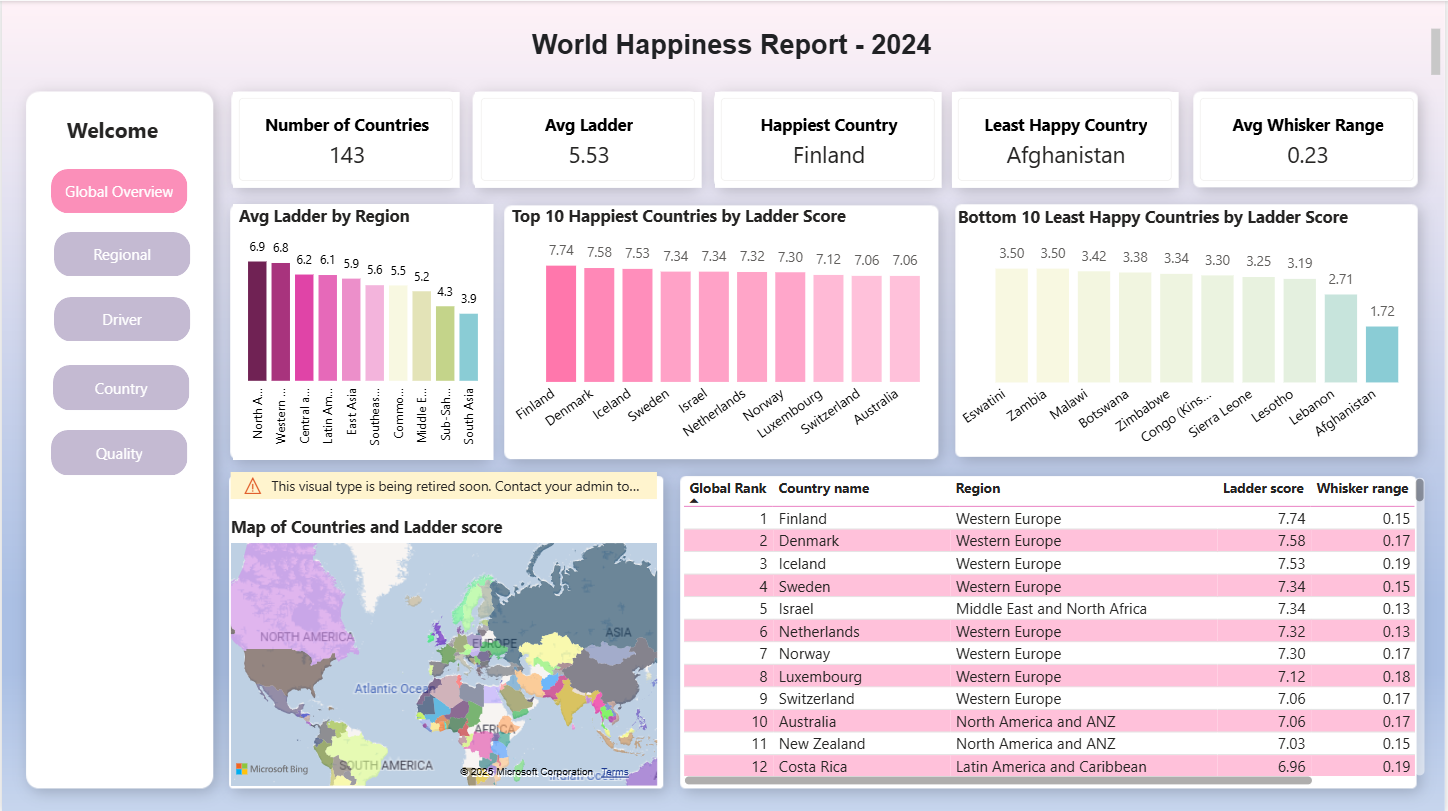

This screenshot's page, from the dashboard's own definition file:
{"tool":"powerbi","page":{"name":"Global Overview","canvas":[1280,720],"ordinal":0},"visuals":[{"type":"cardVisual","title":"Number of Countries","fields":{"Data":["Count(FactHappiness.Country name)"]},"box":[204.6,80.6,200.6,84.7],"z":0},{"type":"cardVisual","title":"Number of Countries","fields":{"Data":["FactHappiness.Top Country Name"]},"box":[631.9,80.6,200.6,84.7],"z":1000},{"type":"cardVisual","title":"Number of Countries","fields":{"Data":["FactHappiness.Bottom Country Name"]},"box":[842.6,80.6,200.6,84.7],"z":2000},{"type":"cardVisual","title":"Number of Countries","fields":{"Data":["FactHappiness.Avg Whisker Range"]},"box":[1057.3,80.6,200.6,84.7],"z":3000},{"type":"cardVisual","title":"Number of Countries","fields":{"Data":["FactHappiness.Avg Ladder"]},"box":[419.3,80.6,200.6,84.7],"z":4000},{"type":"textbox","box":[21.2,19.1,1258.8,53.4],"z":5000},{"type":"clusteredColumnChart","title":"Top 10 Happiest Countries by Ladder Score","fields":{"Category":["FactHappiness.Country name"],"Y":["FactHappiness.Avg Ladder"]},"box":[446.5,180.4,386,225.8],"z":6000},{"type":"clusteredColumnChart","title":"Bottom 10 Least Happy Countries by Ladder Score","fields":{"Category":["FactHappiness.Country name"],"Y":["FactHappiness.Avg Ladder"]},"box":[842.1,181.2,415.8,225.3],"z":7000},{"type":"filledMap","title":"Map of Countries and Ladder score","fields":{"Category":["FactHappiness.Country name"],"Series":["FactHappiness.Ladder score"]},"box":[197.5,417.3,388,283.2],"z":8000},{"type":"clusteredColumnChart","title":"Avg Ladder by Region","fields":{"Category":["FactHappiness.Regional indicator"],"Y":["FactHappiness.Avg Ladder"]},"box":[204.6,180.4,230.8,226.8],"z":9000},{"type":"tableEx","fields":{"Values":["FactHappiness.Global Rank","FactHappiness.Country name","FactHappiness.Regional indicator","Avg(FactHappiness.Ladder score)","Avg(FactHappiness.Whisker range)","FactHappiness.Ladder For Rank"]},"box":[598.7,417.3,668.2,283.2],"z":10000},{"type":"textbox","box":[52.3,96.4,109.2,40.7],"z":11000},{"type":"actionButton","box":[43.3,149.2,121,39.3],"z":12000},{"type":"actionButton","box":[46.2,204.4,121,39.5],"z":13000},{"type":"actionButton","box":[46.2,262.5,121,39.5],"z":14000},{"type":"actionButton","box":[45.4,322.5,121,40.3],"z":15000},{"type":"actionButton","box":[43.3,380,121,40.3],"z":16000}]}

Visuals, with their boxes in screenshot pixels (x1, y1, x2, y2), scaled from the page's 1280x720 canvas onto the 1448x811 screenshot:
"Number of Countries" cardVisual: (left=231, top=91, right=458, bottom=186)
"Number of Countries" cardVisual: (left=715, top=91, right=942, bottom=186)
"Number of Countries" cardVisual: (left=953, top=91, right=1180, bottom=186)
"Number of Countries" cardVisual: (left=1196, top=91, right=1423, bottom=186)
"Number of Countries" cardVisual: (left=474, top=91, right=701, bottom=186)
textbox: (left=24, top=22, right=1447, bottom=82)
"Top 10 Happiest Countries by Ladder Score" clusteredColumnChart: (left=505, top=203, right=942, bottom=458)
"Bottom 10 Least Happy Countries by Ladder Score" clusteredColumnChart: (left=953, top=204, right=1423, bottom=458)
"Map of Countries and Ladder score" filledMap: (left=223, top=470, right=662, bottom=789)
"Avg Ladder by Region" clusteredColumnChart: (left=231, top=203, right=493, bottom=459)
tableEx - FactHappiness.Global Rank x FactHappiness.Country name: (left=677, top=470, right=1433, bottom=789)
textbox: (left=59, top=109, right=183, bottom=154)
actionButton: (left=49, top=168, right=186, bottom=212)
actionButton: (left=52, top=230, right=189, bottom=275)
actionButton: (left=52, top=296, right=189, bottom=340)
actionButton: (left=51, top=363, right=188, bottom=409)
actionButton: (left=49, top=428, right=186, bottom=473)
